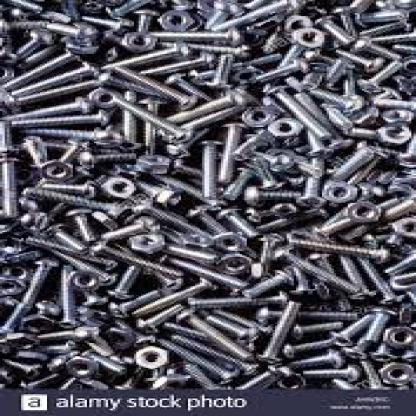METAL: (0, 0, 414, 389), (124, 280, 218, 328), (278, 250, 364, 300), (263, 83, 329, 142), (0, 256, 54, 328), (174, 307, 249, 358), (169, 333, 259, 375), (155, 336, 237, 382), (308, 247, 357, 314), (167, 86, 249, 124), (2, 47, 80, 86), (122, 67, 195, 108), (2, 79, 104, 108), (252, 298, 298, 362), (118, 98, 188, 140), (7, 60, 96, 93), (160, 321, 247, 353), (353, 253, 404, 305), (289, 236, 386, 263), (99, 39, 190, 66), (209, 0, 296, 28), (0, 109, 113, 130), (84, 213, 160, 242), (332, 248, 372, 301), (254, 304, 357, 324), (181, 289, 275, 308), (155, 38, 247, 57), (134, 302, 183, 336), (209, 305, 268, 333), (216, 119, 242, 182), (202, 312, 254, 342), (150, 28, 240, 45), (103, 261, 141, 301), (251, 57, 308, 83), (197, 138, 221, 198), (162, 124, 207, 156), (284, 348, 344, 370), (331, 146, 369, 180), (183, 204, 226, 234), (301, 363, 362, 384), (214, 206, 256, 236), (178, 362, 226, 388), (329, 311, 364, 346), (338, 323, 372, 359), (231, 365, 278, 390), (136, 178, 181, 204), (310, 13, 350, 42), (348, 35, 397, 58), (66, 204, 96, 241), (249, 159, 287, 188), (75, 150, 136, 168), (240, 187, 303, 204), (202, 0, 240, 28), (364, 305, 392, 343), (242, 271, 292, 292), (296, 170, 322, 208), (153, 9, 202, 29), (350, 9, 407, 26), (235, 104, 277, 127), (56, 134, 87, 165), (278, 337, 338, 353), (205, 54, 235, 86), (287, 320, 343, 337), (99, 175, 134, 202), (131, 343, 167, 369), (376, 360, 414, 384), (63, 354, 99, 379), (320, 102, 350, 132), (371, 119, 407, 144), (0, 152, 14, 216), (214, 251, 249, 276), (35, 158, 73, 181), (343, 198, 379, 221), (19, 29, 52, 54), (380, 326, 414, 350), (5, 354, 42, 376), (263, 146, 294, 172), (263, 115, 301, 136), (40, 181, 92, 196), (125, 232, 162, 253), (289, 25, 322, 48), (24, 130, 47, 163), (284, 156, 320, 177), (322, 179, 353, 203), (383, 250, 414, 274), (19, 314, 56, 334), (38, 326, 98, 338), (381, 194, 409, 219), (139, 152, 174, 172), (212, 231, 245, 251), (87, 86, 117, 108), (49, 0, 85, 18), (87, 206, 115, 229), (101, 0, 150, 13), (378, 107, 414, 124), (280, 13, 312, 32), (390, 213, 414, 238), (19, 212, 49, 232), (0, 260, 31, 279), (362, 29, 411, 41), (355, 181, 385, 200), (329, 0, 371, 13), (0, 276, 24, 298), (12, 346, 49, 359), (0, 0, 40, 12), (268, 200, 298, 216), (66, 269, 94, 286), (0, 235, 24, 253), (275, 372, 303, 387), (33, 296, 56, 314), (136, 8, 153, 30), (160, 0, 197, 9), (42, 343, 73, 353), (390, 42, 414, 54), (82, 0, 104, 12), (387, 0, 414, 8)
